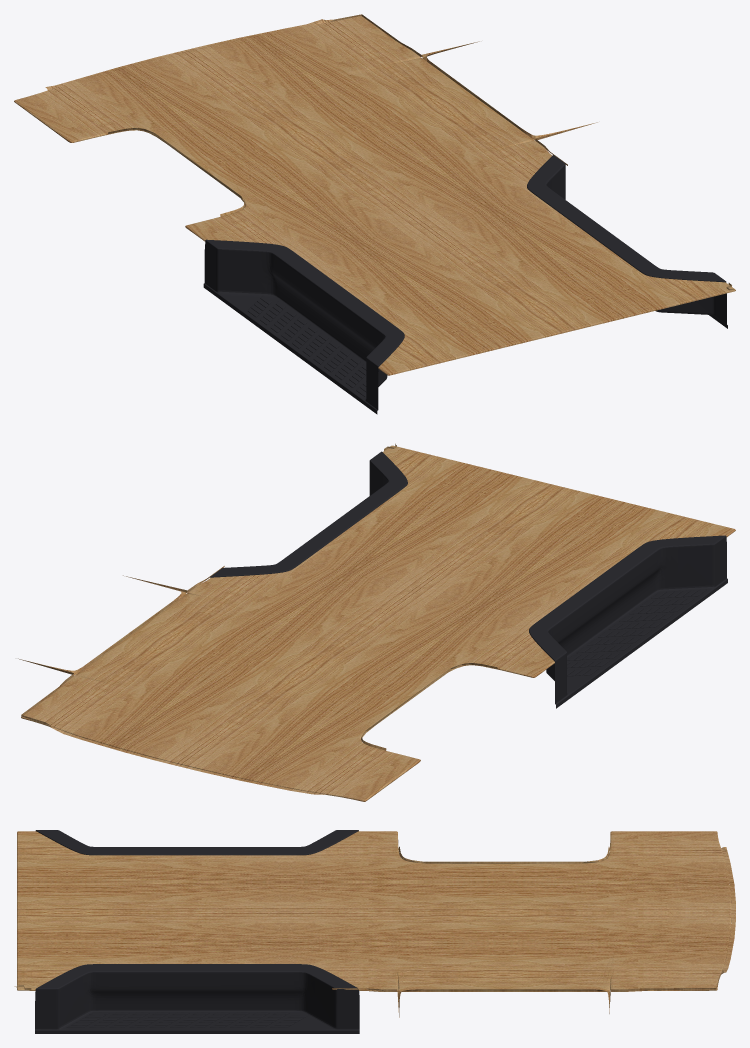
Rendered from floor-oak.glb.
3 views of the same model, one above another, from view 1: azimuth 30°, elevation 25°; view 2: azimuth 150°, elevation 25°; view 3: azimuth 270°, elevation 25° (orthographic). The views are drawn at different scales.
Visible parts, largest first — view 1: floor_0, step_0, メッシュ ボディ786_0; view 2: floor_0, step_0, メッシュ ボディ786_0; view 3: floor_0, step_0, メッシュ ボディ786_0.
Boxes of the visible parts, box(x1,y1,x2,y2) form: floor_0: box(14, 16, 735, 375); step_0: box(203, 155, 727, 414); メッシュ ボディ786_0: box(45, 14, 734, 290); floor_0: box(21, 445, 735, 801); step_0: box(210, 451, 727, 708); メッシュ ボディ786_0: box(18, 443, 497, 794); floor_0: box(17, 831, 731, 991); step_0: box(35, 830, 359, 1033); メッシュ ボディ786_0: box(14, 846, 735, 1017).
Bounding box in the file's own units: 1.86 × 0.2061 × 2.98.
3 materials, 2 textured.
